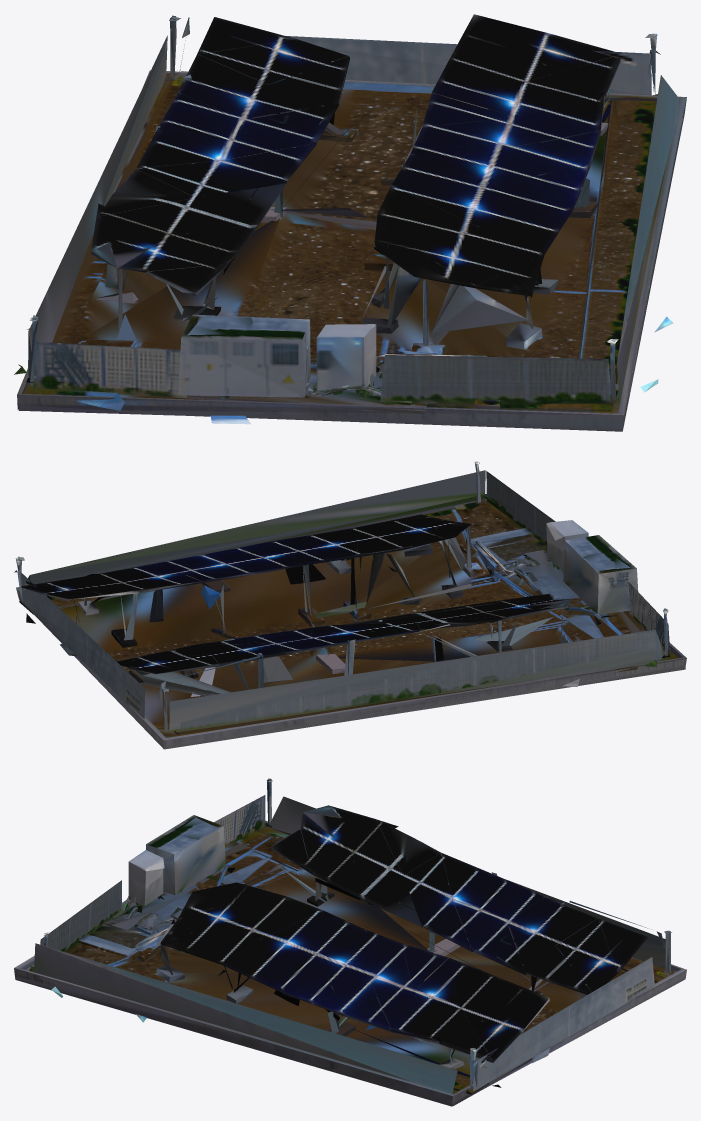
File: solar_farm.glb
3 renders of one model, top to bottom at view 1: azimuth 30°, elevation 25°; view 2: azimuth 150°, elevation 25°; view 3: azimuth 270°, elevation 25°, orthographic. The views are drawn at different scales.
Visible parts, largest first — view 1: world; view 2: world; view 3: world.
Part boxes in pixels (left/top/right/bottom): world: left=14, top=14, right=686, bottom=431; world: left=14, top=461, right=686, bottom=749; world: left=14, top=778, right=686, bottom=1106.
Size of the model in its own units: 1.93 by 0.2212 by 1.97.
Materials: 1 (1 with a texture image).
